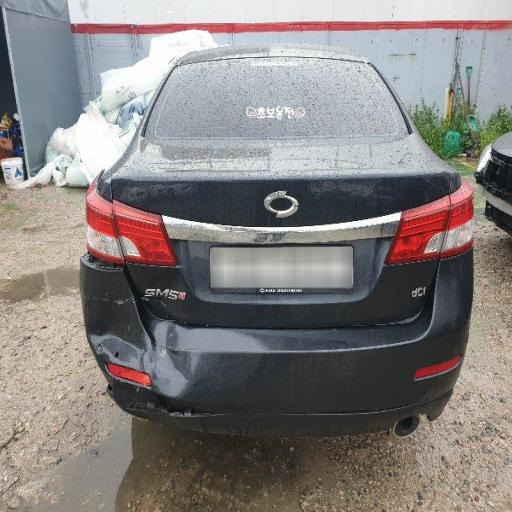broken: (102, 240, 204, 406)
scratch: (182, 70, 439, 202)
